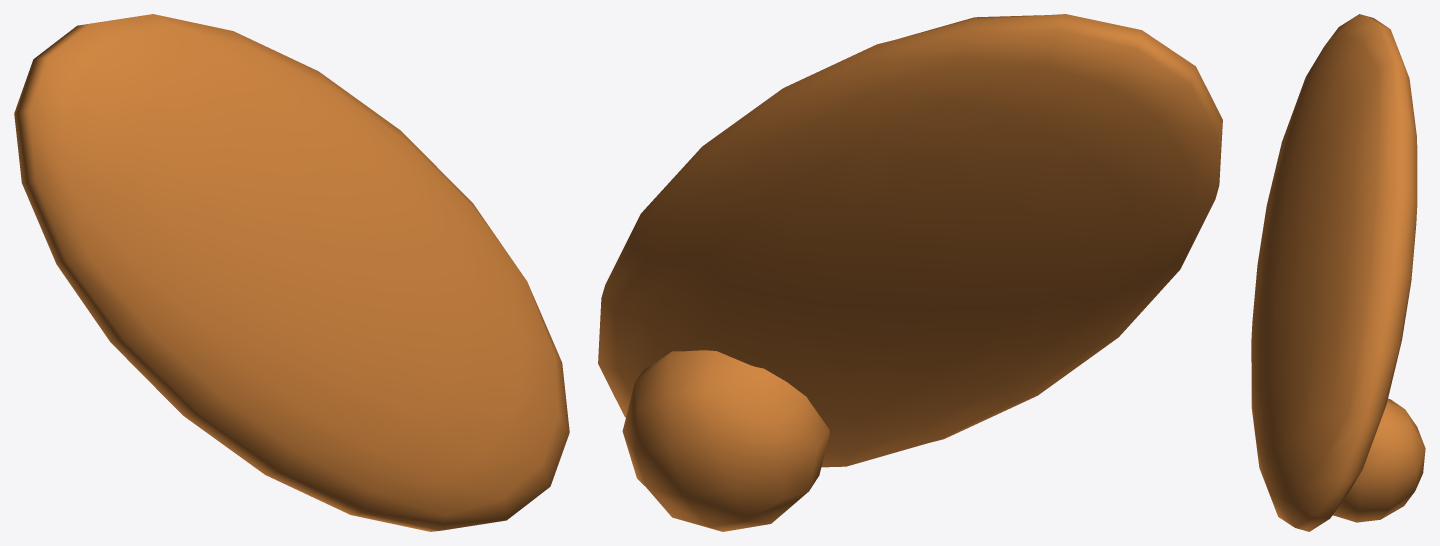
File: antenna_left_frons.obj
3 views of the same model, side by side, from view 1: azimuth 30°, elevation 25°; view 2: azimuth 150°, elevation 25°; view 3: azimuth 270°, elevation 25° (orthographic). The views are drawn at different scales.
Bounding box in the file's own units: 0.0235 × 0.0223 × 0.00924.
